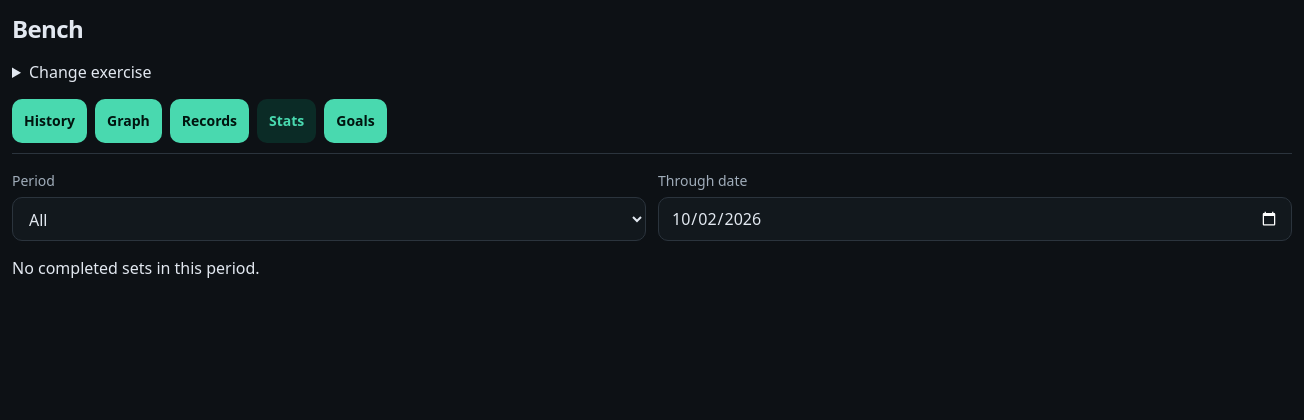
keeps cardio record options scoped and avoids raw reads in all-time mode
This screenshot has width=1304, height=420.
Click the button with aria-label "Exercise progress" at (128, 121), box [95,99,162,143]
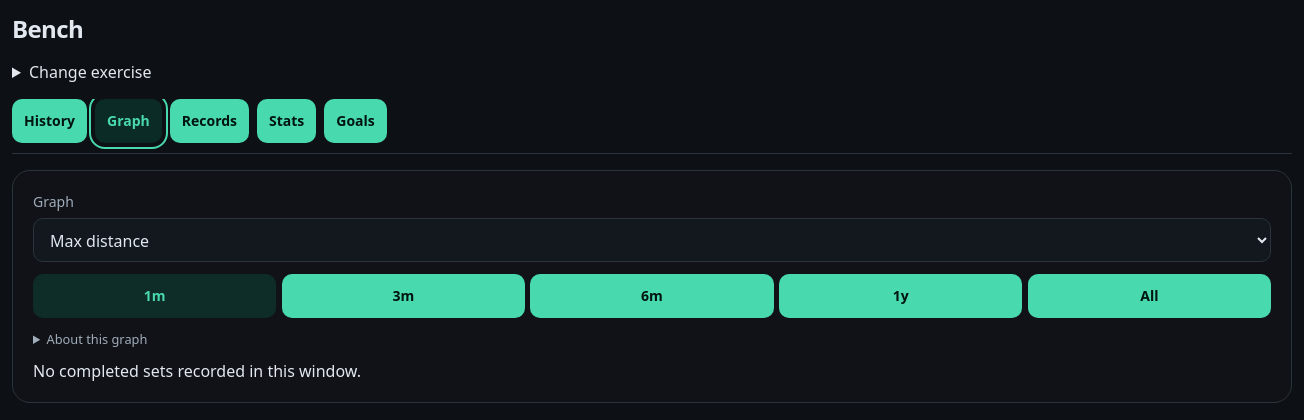
Result: the dropdown labelled "Graph" shows "Max distance" at [33,218,1271,262]
